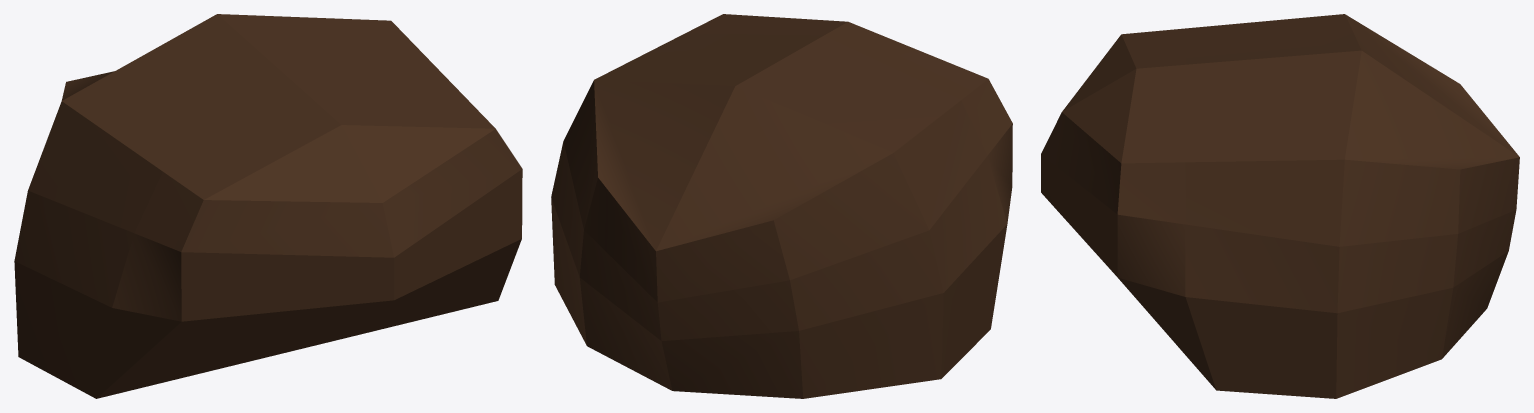
The model's file is Hair Zombie range.fbx.
3 views of the same model, side by side, from view 1: azimuth 30°, elevation 25°; view 2: azimuth 150°, elevation 25°; view 3: azimuth 270°, elevation 25° (orthographic). The views are drawn at different scales.
Parts seen in each view (by area): view 1: Hair; view 2: Hair; view 3: Hair.
Boxes of the visible parts, x1,y1,x2,y2 form: Hair: (14, 14, 522, 398); Hair: (551, 14, 1012, 398); Hair: (1041, 14, 1519, 398).
Size of the model in its own units: 29.07 by 18.31 by 30.81.
1 material, 1 textured.
